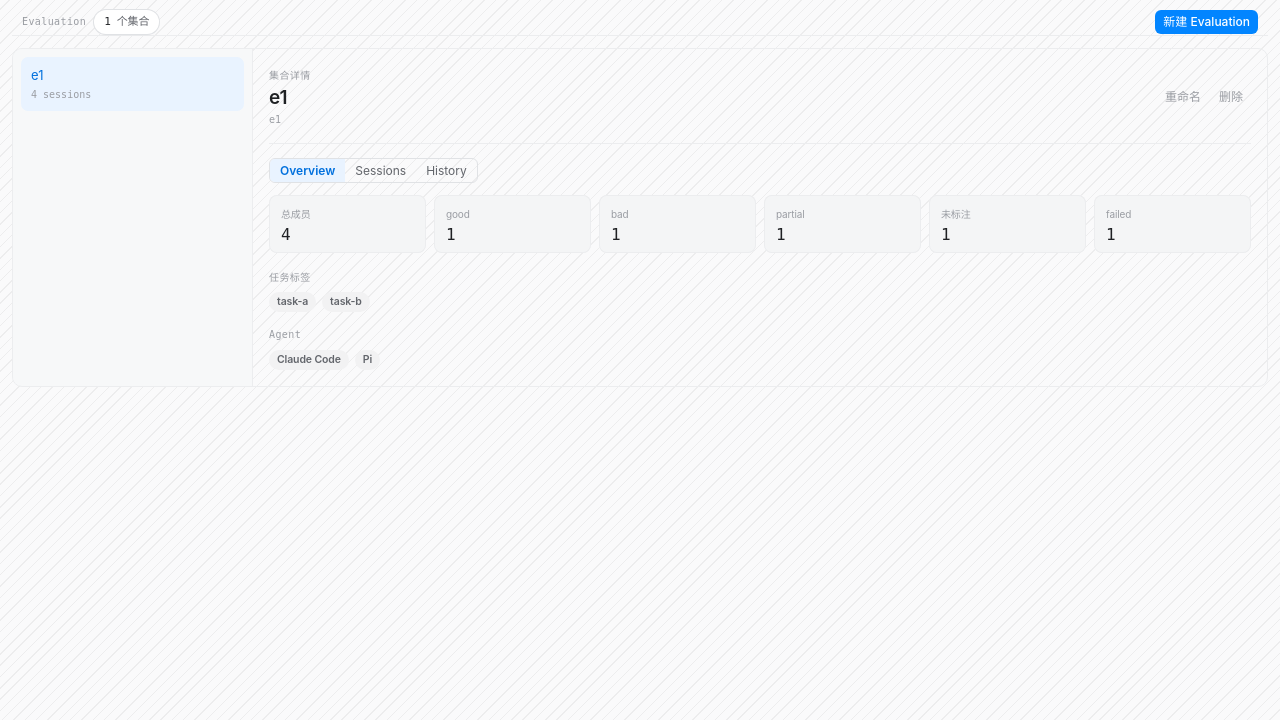
Test: EvaluationView › History tab lists fact types and safe summary without real body
The image size is (1280, 720).
Step 1. Click the button "History" → (446, 170), box [416,158,477,182]
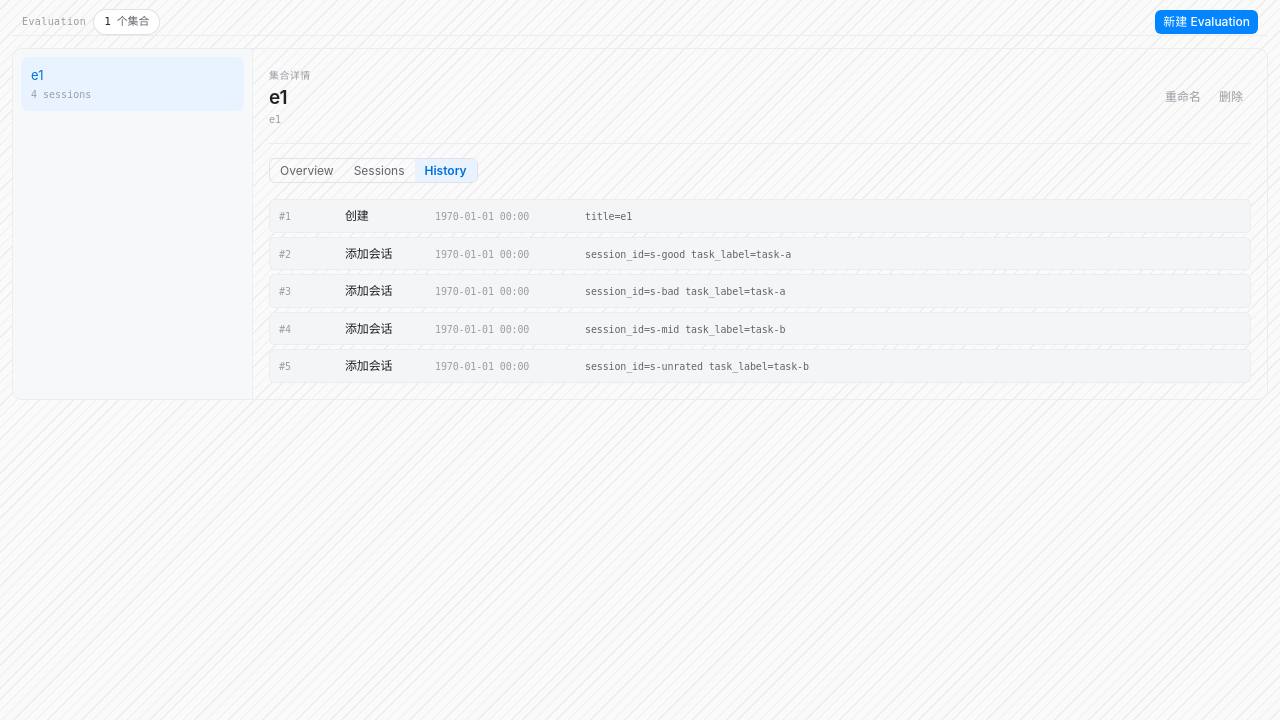
Expected: the number of list items is 5, [269,199,1251,232]; [269,236,1251,270]; [269,274,1251,308]; [269,312,1251,345]; [269,349,1251,382]
Expected: the text "添加会话" is shown 4 times, [345,246,392,260]; [345,283,392,298]; [345,320,392,336]; [345,358,392,373]
Expected: the text "session_id=s-good task_label=task-a" is shown, [585,248,791,260]
